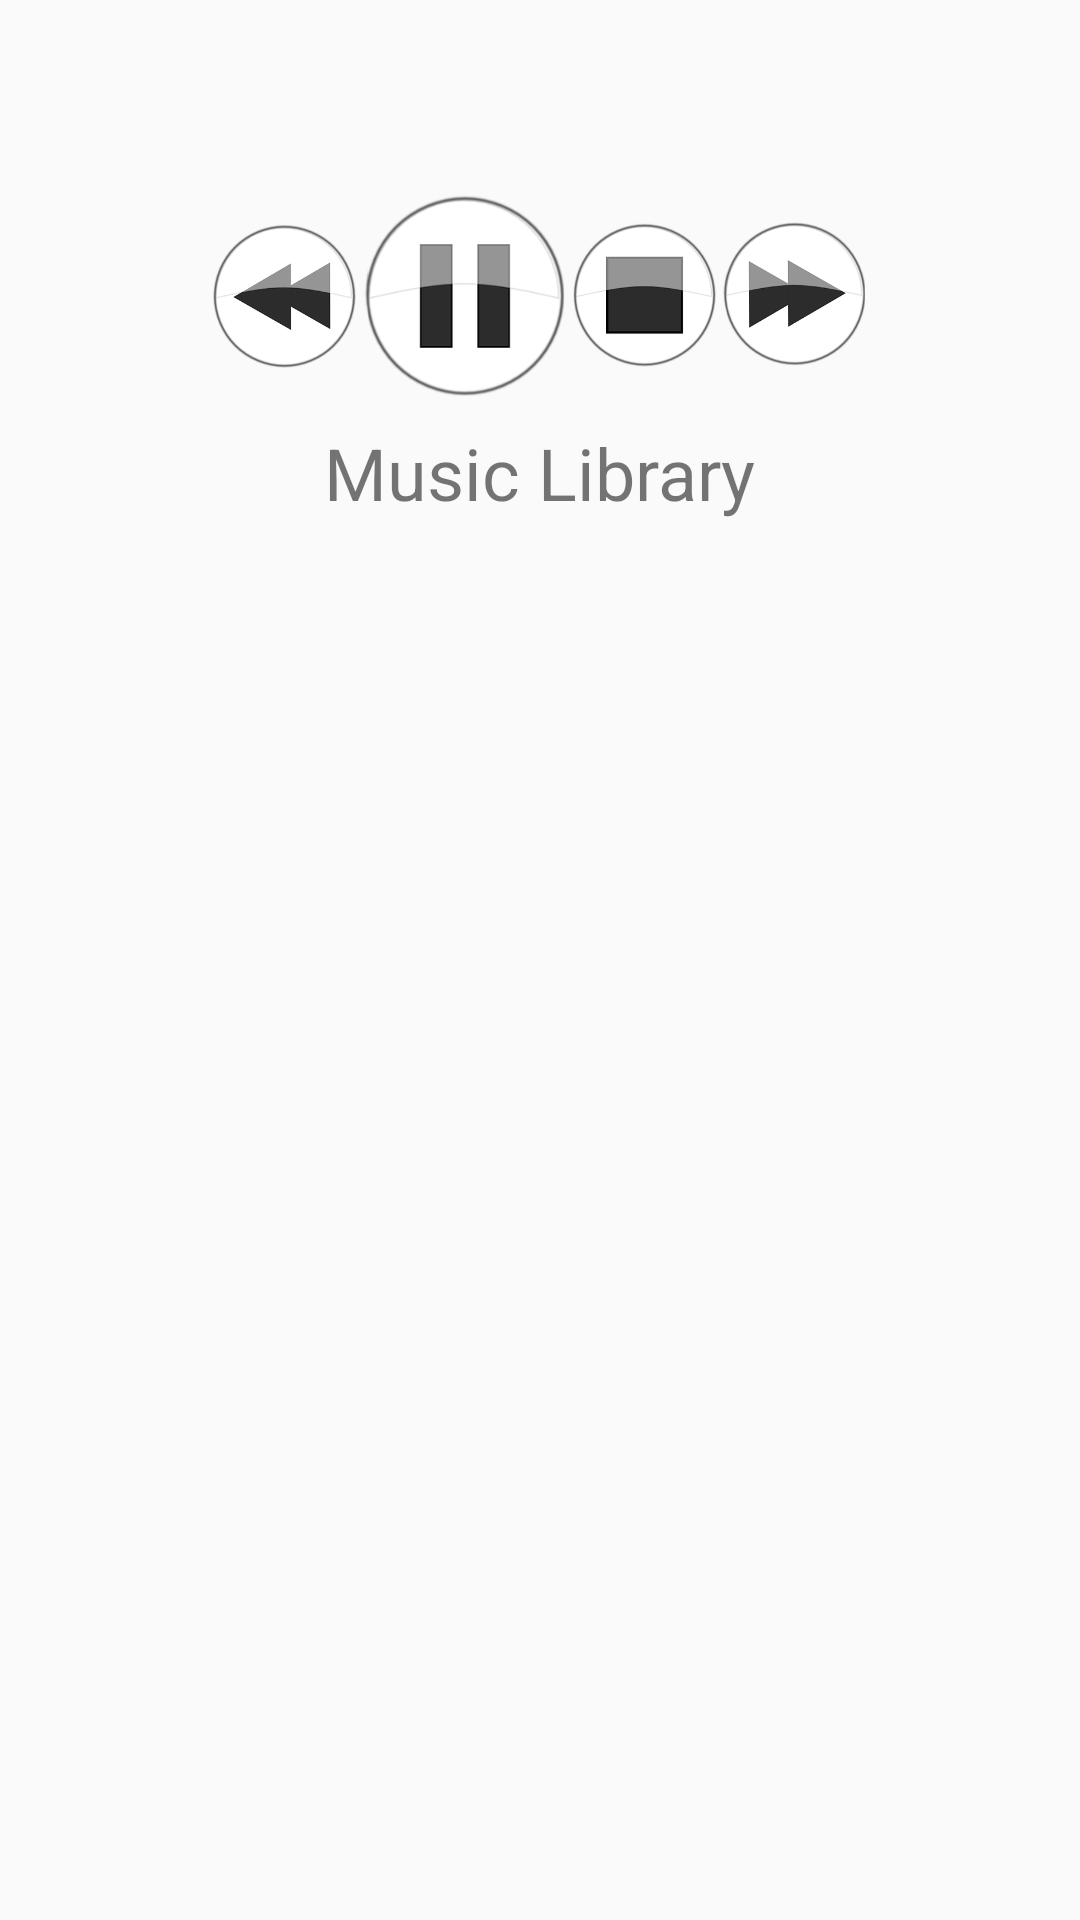

Named icons in this screenshot (1080px×1920px) and their centers, (x=x, y=y):
next: (x=794, y=294)
pause: (x=464, y=296)
previous: (x=284, y=296)
stop: (x=645, y=295)
